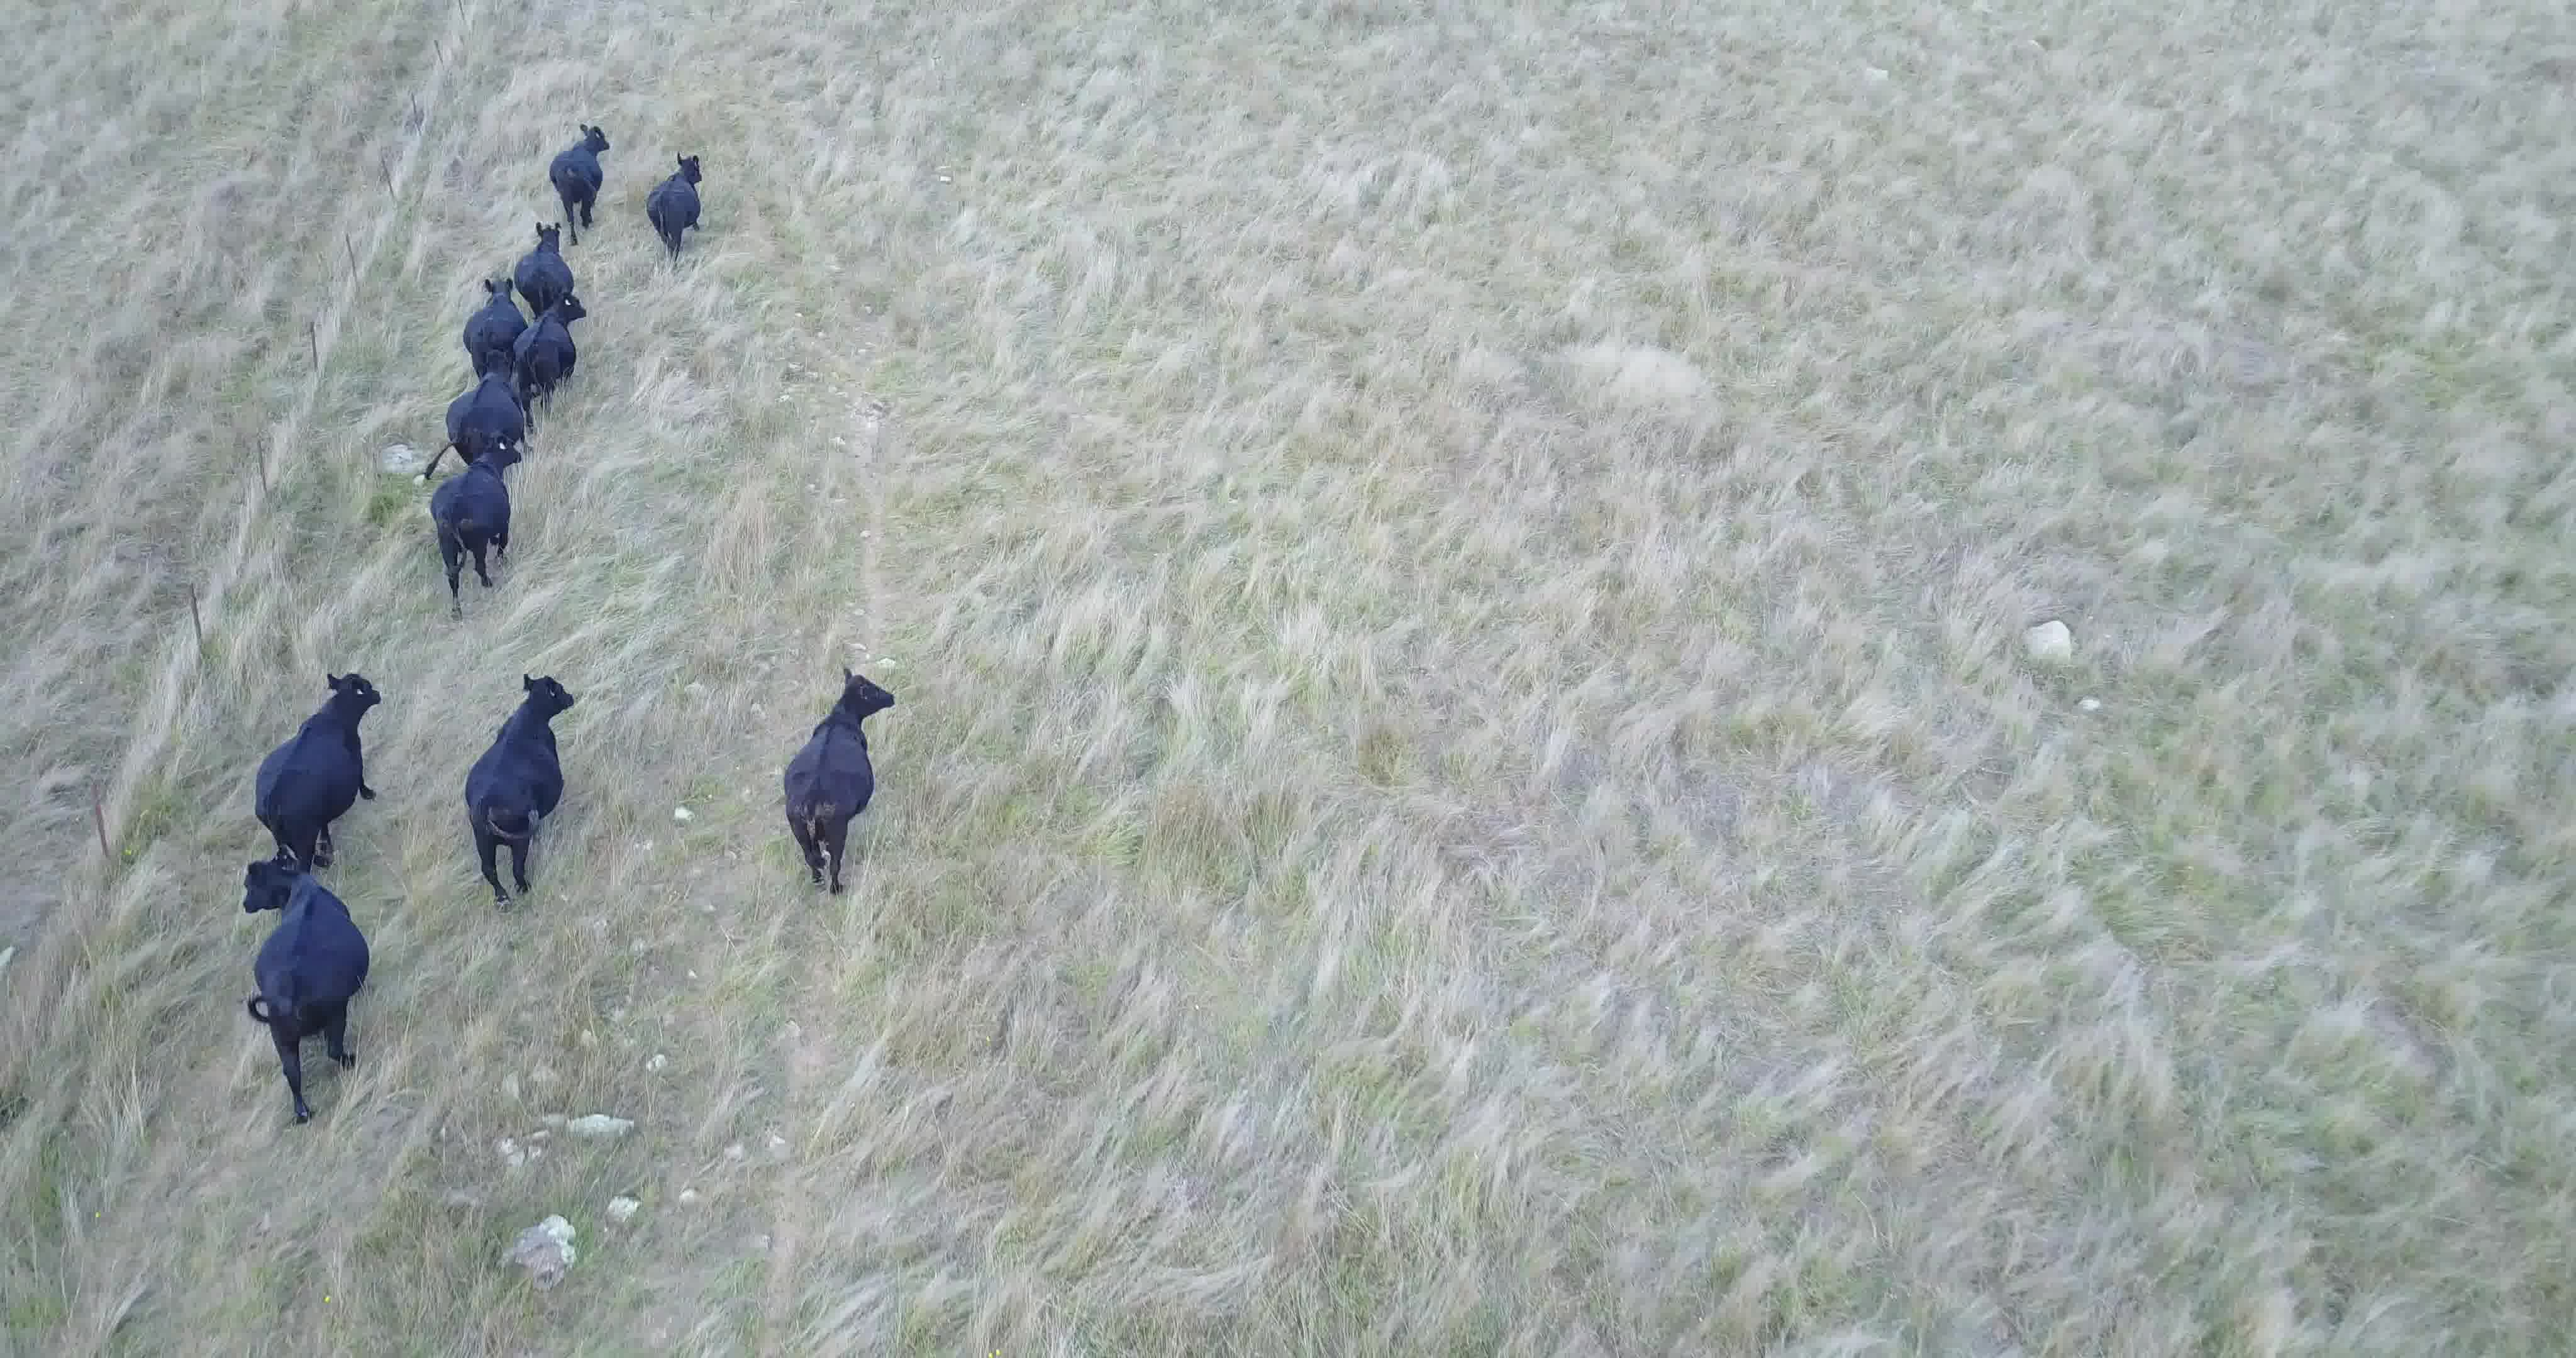cattle: (213, 852, 383, 1133), (779, 666, 903, 906), (462, 671, 576, 918), (249, 668, 387, 862), (417, 433, 530, 619), (440, 344, 533, 463), (511, 290, 593, 412), (639, 148, 709, 268), (509, 216, 584, 312), (542, 119, 615, 216), (463, 274, 533, 363)
